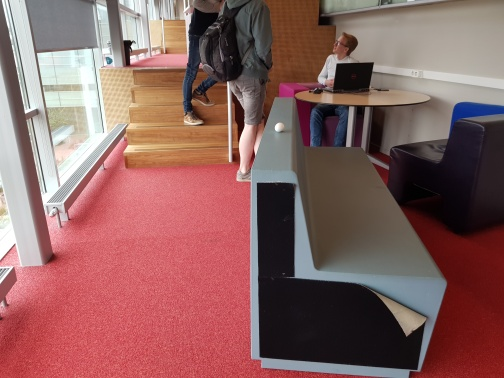egg: (273, 122, 286, 132)
